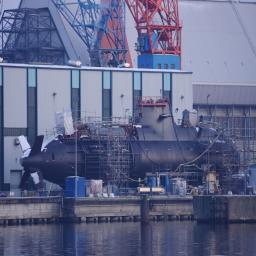submarine: (20, 102, 242, 190)
